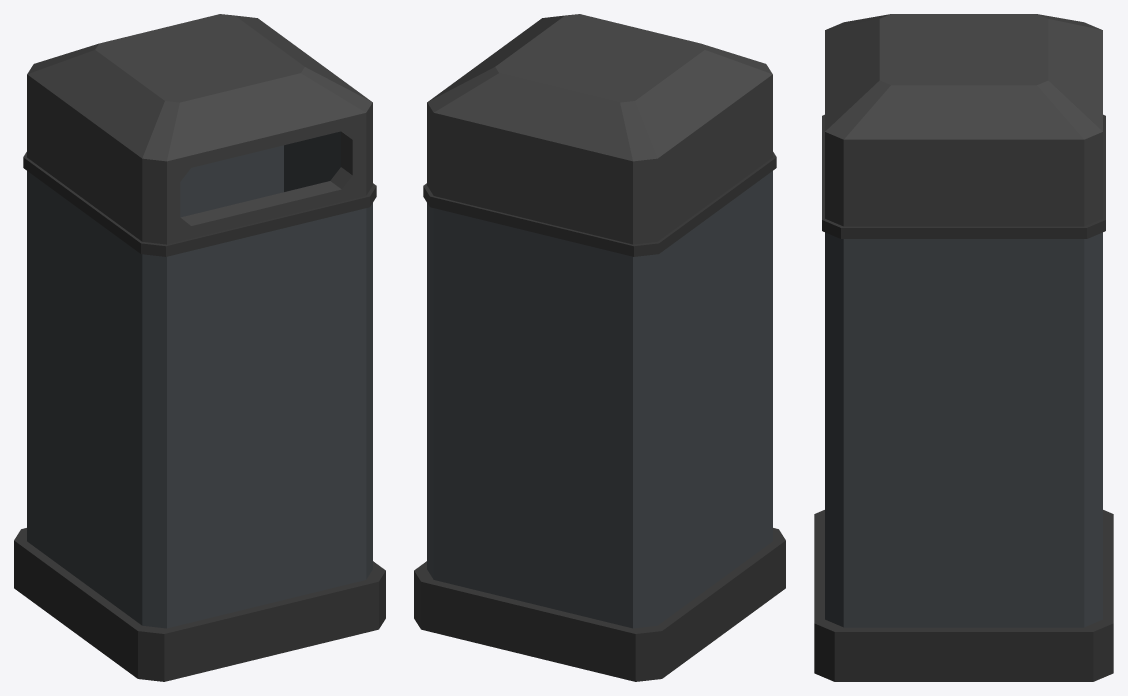
Rendered from SM_Props_Trash_01.fbx.
The picture shows the model from 3 angles, left to right: view 1: azimuth 30°, elevation 25°; view 2: azimuth 150°, elevation 25°; view 3: azimuth 270°, elevation 25°; orthographic projection. The views are drawn at different scales.
Visible parts, largest first — view 1: SM_Props_Trash_01; view 2: SM_Props_Trash_01; view 3: SM_Props_Trash_01.
Boxes of the visible parts, x1=… form: SM_Props_Trash_01: x1=14, y1=14, x2=385, y2=681; SM_Props_Trash_01: x1=414, y1=14, x2=785, y2=681; SM_Props_Trash_01: x1=814, y1=14, x2=1113, y2=681.
Size of the model in its own units: 0.5514 by 1.16 by 0.5514.
